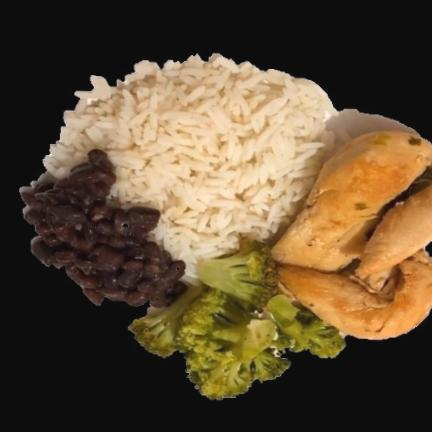beans: (23, 150, 186, 307)
broccoli: (131, 245, 344, 399)
chicken: (273, 132, 432, 339)
rice: (44, 55, 347, 283)
